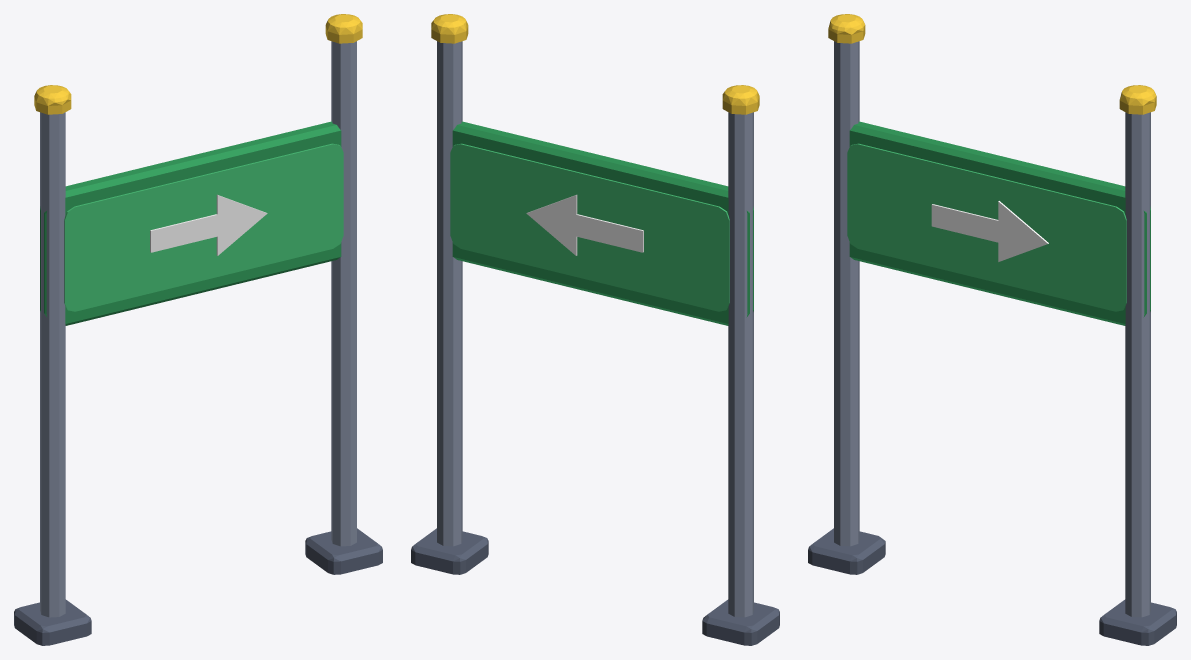
Rendered from prop_gate.glb.
3 renders of one model, left to right at view 1: azimuth 30°, elevation 25°; view 2: azimuth 150°, elevation 25°; view 3: azimuth 330°, elevation 25°, orthographic.
Visible parts, largest first — view 1: face, poles, board, main, arrow, knobs; view 2: face, poles, board, main, arrow, knobs; view 3: face, poles, board, main, arrow, knobs.
Boxes of the visible parts, left/top/right/bottom form: face: left=64, top=143, right=343, bottom=311; poles: left=40, top=41, right=356, bottom=617; board: left=40, top=121, right=341, bottom=325; main: left=14, top=528, right=382, bottom=645; arrow: left=150, top=194, right=267, bottom=255; knobs: left=34, top=14, right=362, bottom=114; face: left=450, top=143, right=729, bottom=311; poles: left=437, top=41, right=753, bottom=617; board: left=452, top=121, right=753, bottom=325; main: left=411, top=528, right=779, bottom=645; arrow: left=526, top=194, right=643, bottom=255; knobs: left=431, top=14, right=759, bottom=114; face: left=847, top=143, right=1126, bottom=311; poles: left=834, top=41, right=1150, bottom=617; board: left=849, top=121, right=1150, bottom=325; main: left=808, top=528, right=1176, bottom=645; arrow: left=931, top=201, right=1048, bottom=261; knobs: left=828, top=14, right=1156, bottom=114.
Bounding box in the file's own units: 0.6694 × 1 × 0.1048.
